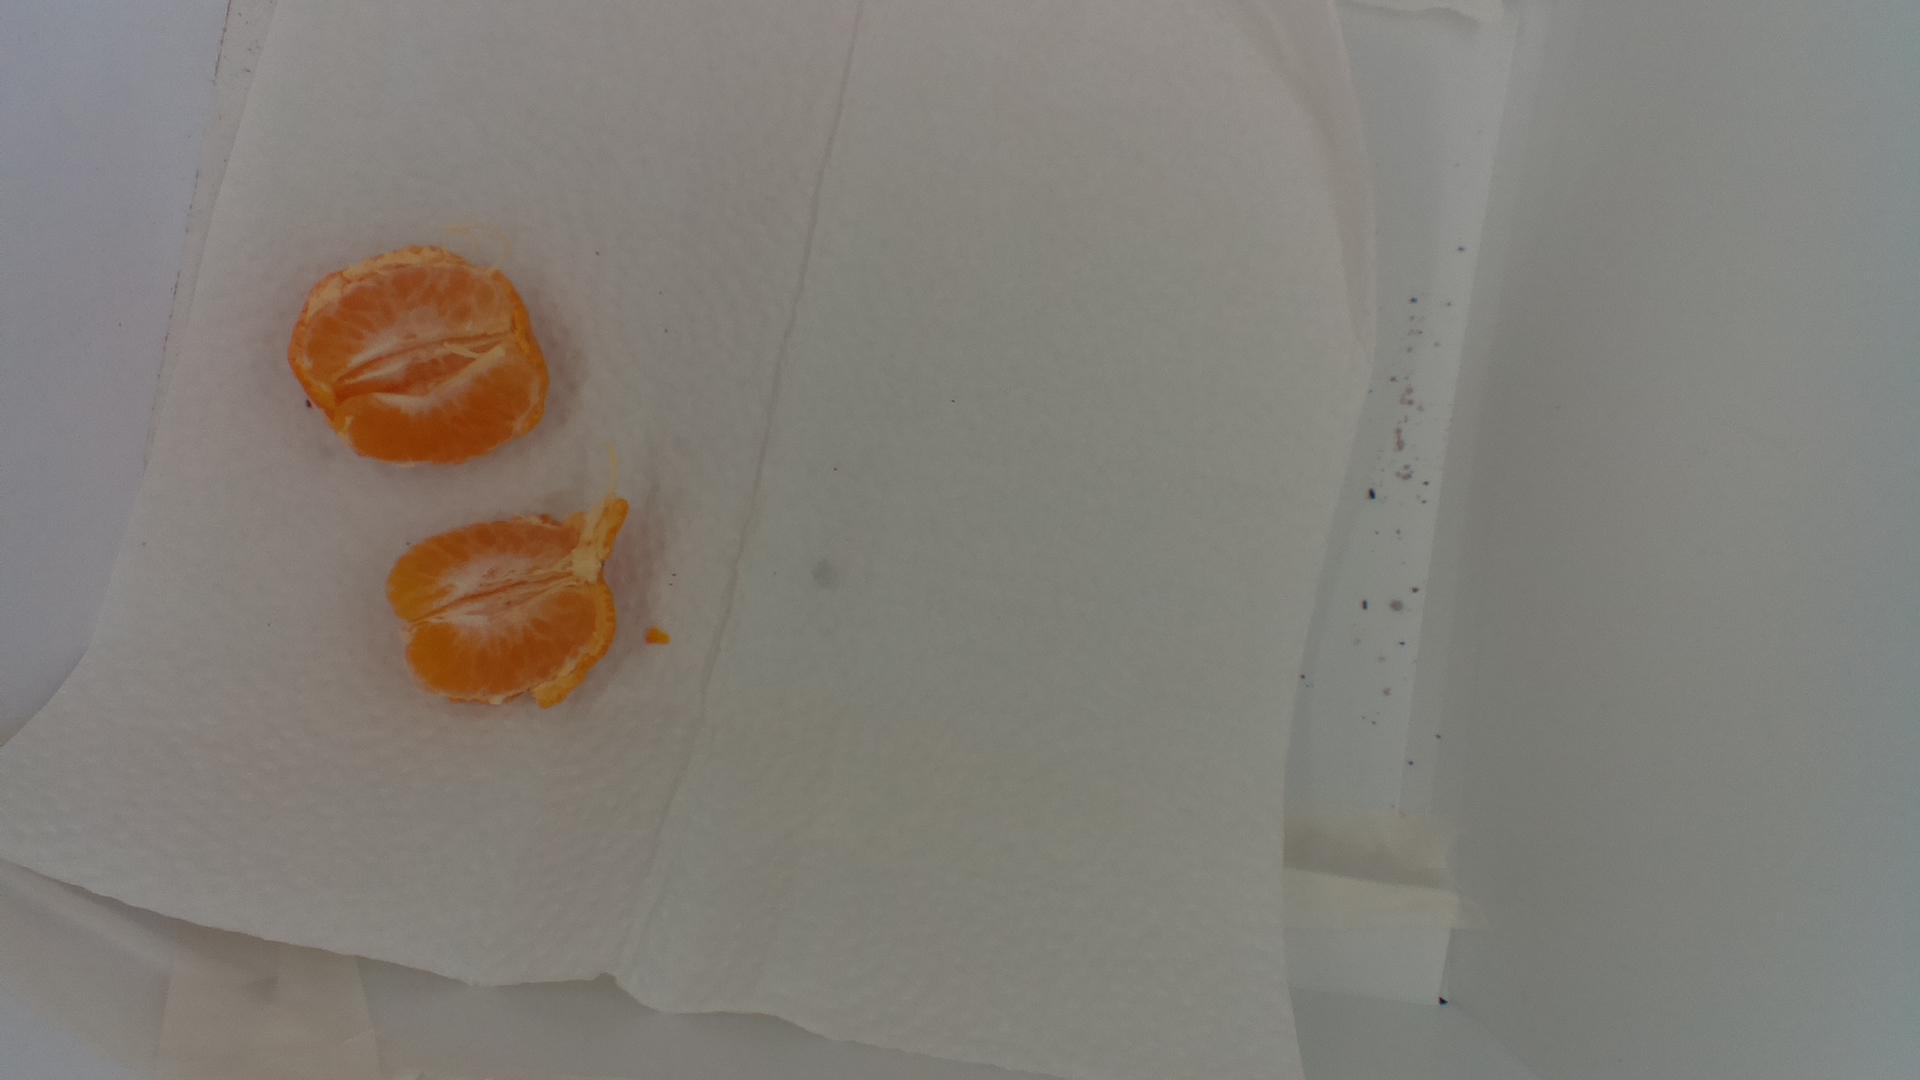fruit: (291, 233, 551, 472), (381, 495, 641, 705)
